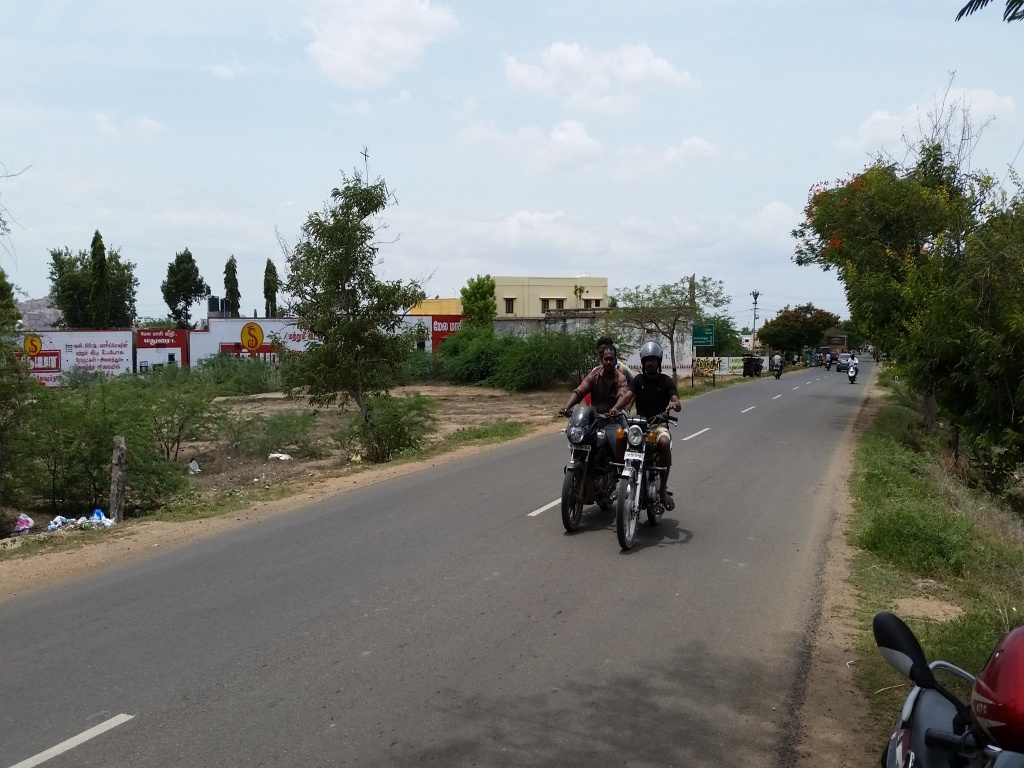biker: (536, 284, 614, 536), (614, 301, 692, 553)
helmet: (633, 327, 673, 386)
nohelmet: (588, 323, 623, 378)
